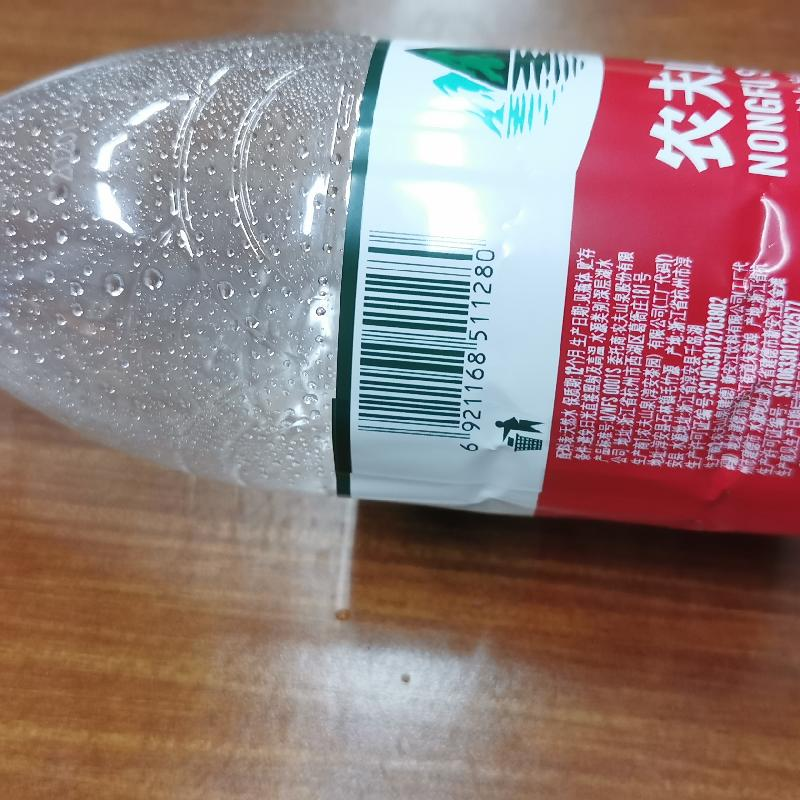bottles: (0, 25, 799, 550)
